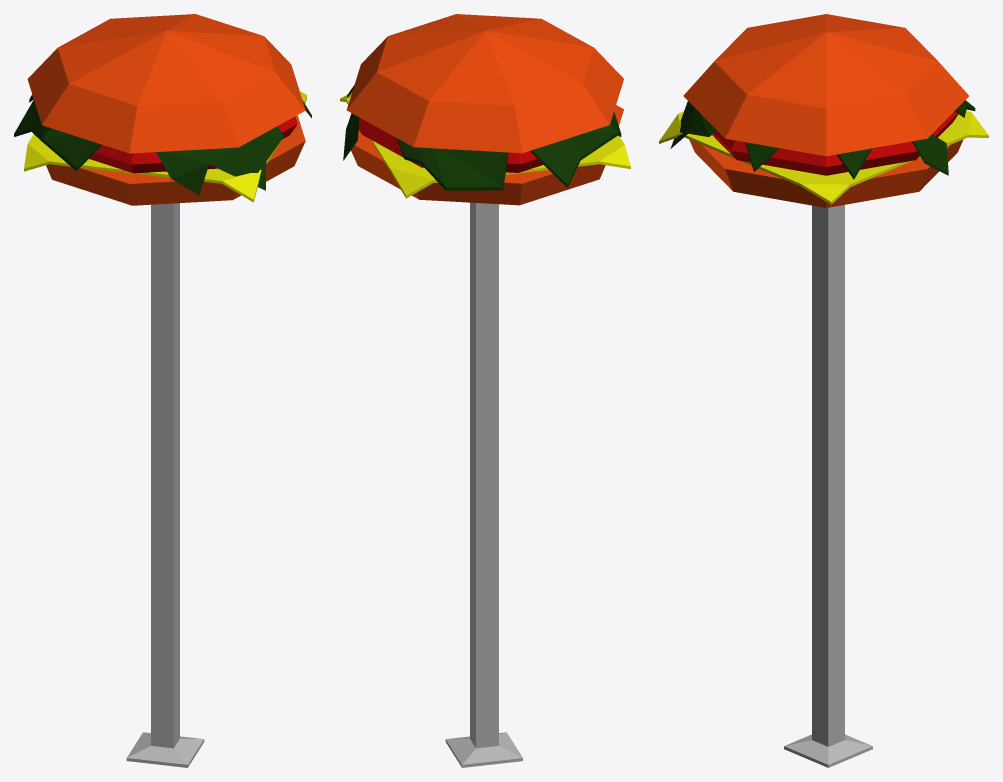
Rendered from burger bong.FBX.
3 views of the same model, side by side, from view 1: azimuth 30°, elevation 25°; view 2: azimuth 150°, elevation 25°; view 3: azimuth 270°, elevation 25° (orthographic).
Visible parts, largest first — view 1: Cylinder; view 2: Cylinder; view 3: Cylinder.
Part boxes in pixels (bbox=[...]): Cylinder: bbox=[14, 14, 311, 767]; Cylinder: bbox=[340, 14, 630, 767]; Cylinder: bbox=[659, 14, 988, 767].
Size of the model in its own units: 199 by 479 by 200.
